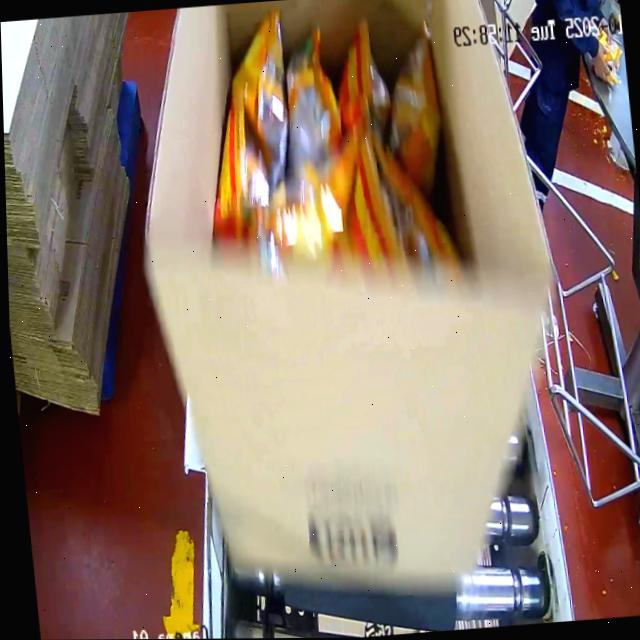FRENCH_CHEESE: (200, 0, 466, 288)
